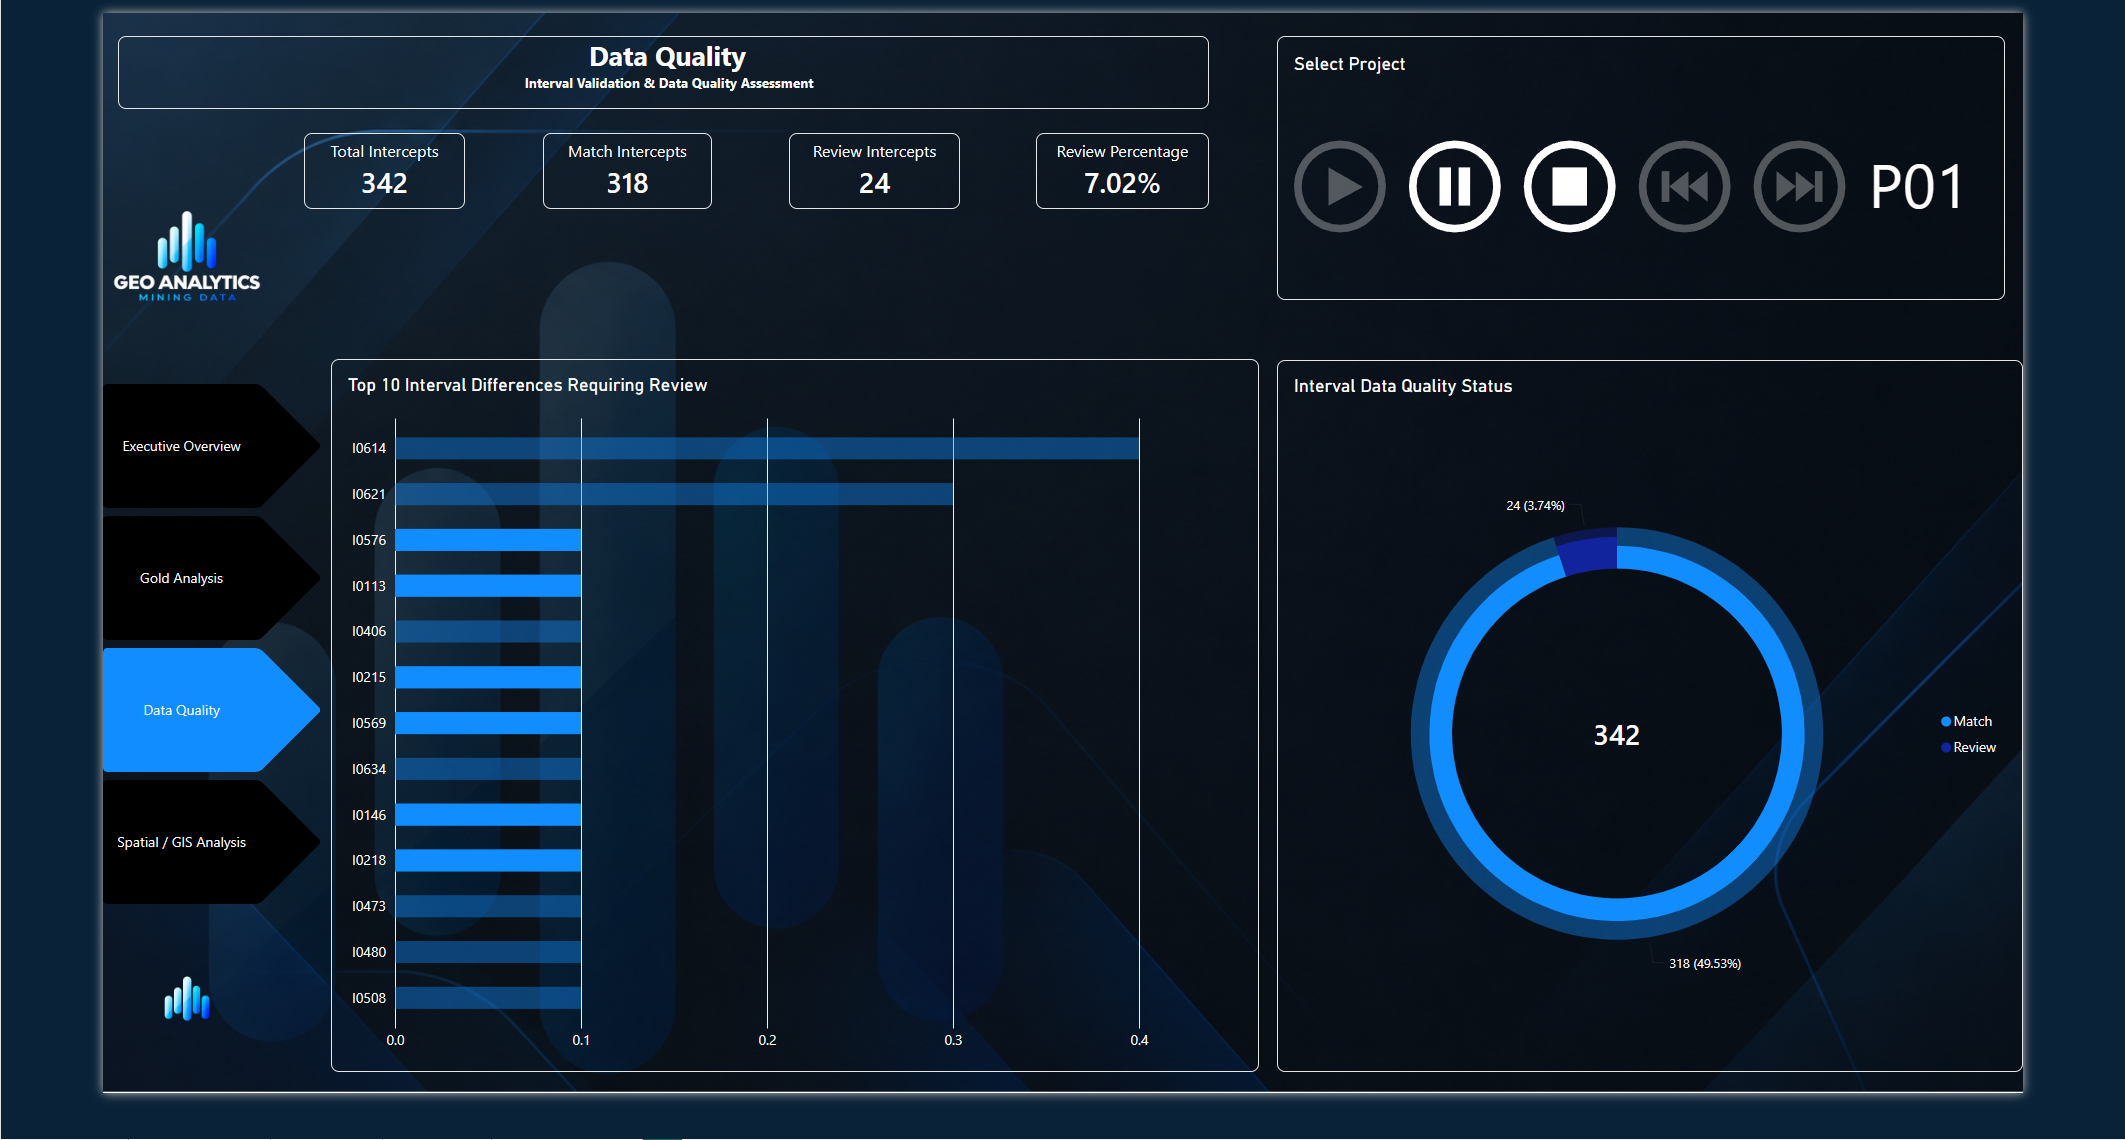

This screenshot's page, from the dashboard's own definition file:
{"tool":"powerbi","page":{"name":"Data Quality","canvas":[1920,1080],"ordinal":2},"visuals":[{"type":"cardVisual","fields":{"Data":["mining_geology_project intercepts.Review Intercepts"]},"box":[599.9,162.2,308.1,193.8],"z":0},{"type":"cardVisual","fields":{"Data":["mining_geology_project intercepts.Review Percentage"]},"box":[899.8,162.2,308.1,193.8],"z":1000},{"type":"donutChart","title":"Interval Data Quality Status","fields":{"Category":["mining_geology_project intercepts.Quality_Status"],"Y":["CountNonNull(mining_geology_project intercepts.Intercept_ID)"]},"box":[1010.4,346.8,909.6,733.6],"z":2000},{"type":"cardVisual","fields":{"Data":["mining_geology_project intercepts.Match Intercepts"]},"box":[299.9,162.2,307.1,193.8],"z":3000},{"type":"cardVisual","fields":{"Data":["Count(mining_geology_project intercepts.Intercept_ID)"]},"box":[0,162.2,308.1,193.8],"z":4000},{"type":"clusteredBarChart","title":"Top 10 Interval Differences Requiring Review","fields":{"Category":["mining_geology_project intercepts.Intercept_ID"],"Y":["Max(mining_geology_project intercepts.Interval_Difference)"]},"box":[0,346.8,1019.7,733.6],"z":5000},{"type":"PBI_CV_16948668_E17D_454B_8664_2F2C470EA8C1","fields":{"category":["mining_geology_project intercepts.Project_ID"]},"box":[1199.7,0,720.3,356],"z":6000},{"type":"textbox","box":[0,0,1199.7,171.4],"z":7000}]}

Visuals, with their boxes on the page's 1920x1080 design canvas (x1, y1, x2, y2). These are canvas units, not pixel positions in the 2125x1140 screenshot, which may show the page scaled, cropped or inside an application window:
cardVisual - mining_geology_project intercepts.Review Intercepts: <bbox>600, 162, 908, 356</bbox>
cardVisual - mining_geology_project intercepts.Review Percentage: <bbox>900, 162, 1208, 356</bbox>
"Interval Data Quality Status" donutChart: <bbox>1010, 347, 1920, 1080</bbox>
cardVisual - mining_geology_project intercepts.Match Intercepts: <bbox>300, 162, 607, 356</bbox>
cardVisual - Count(mining_geology_project intercepts.Intercept_ID): <bbox>0, 162, 308, 356</bbox>
"Top 10 Interval Differences Requiring Review" clusteredBarChart: <bbox>0, 347, 1020, 1080</bbox>
PBI_CV_16948668_E17D_454B_8664_2F2C470EA8C1 - mining_geology_project intercepts.Project_ID: <bbox>1200, 0, 1920, 356</bbox>
textbox: <bbox>0, 0, 1200, 171</bbox>
